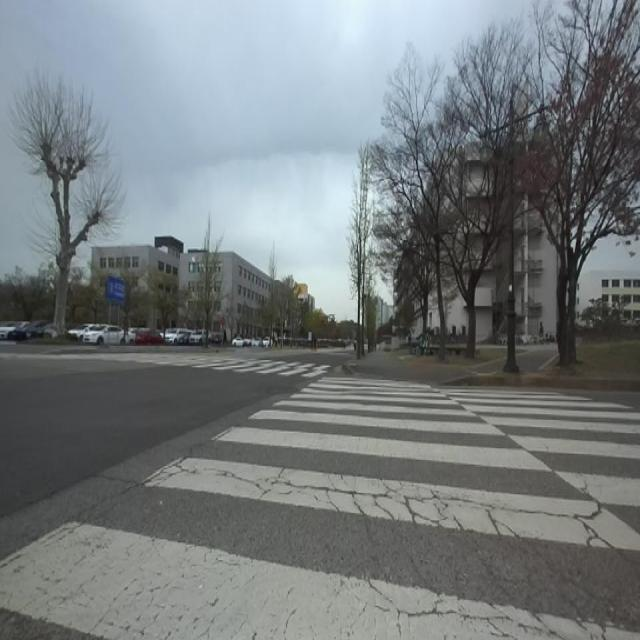sidewalk: (350, 349, 452, 382)
